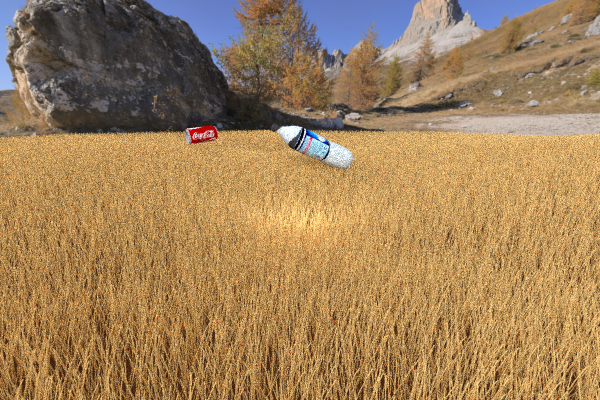Plastic Bottle: (270, 123, 353, 169), (398, 128, 452, 153), (184, 125, 218, 144)
